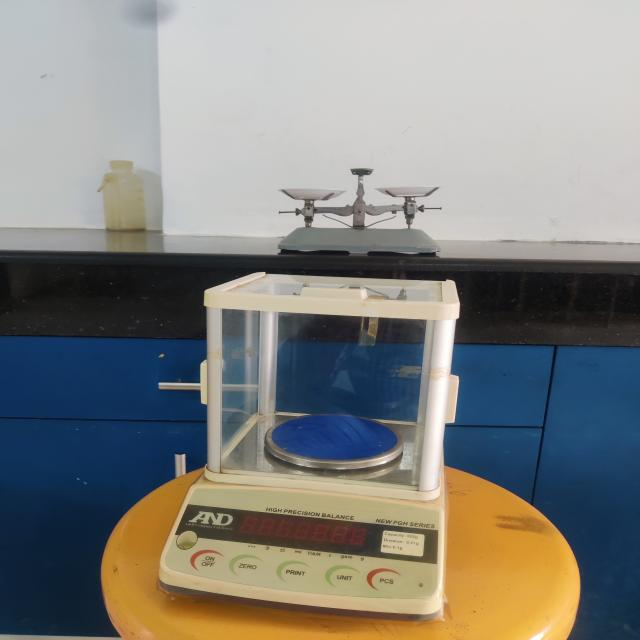Mechanical_Balance_Scale: (229, 147, 471, 266)
Precision_Weight_Scale: (145, 267, 488, 640)
